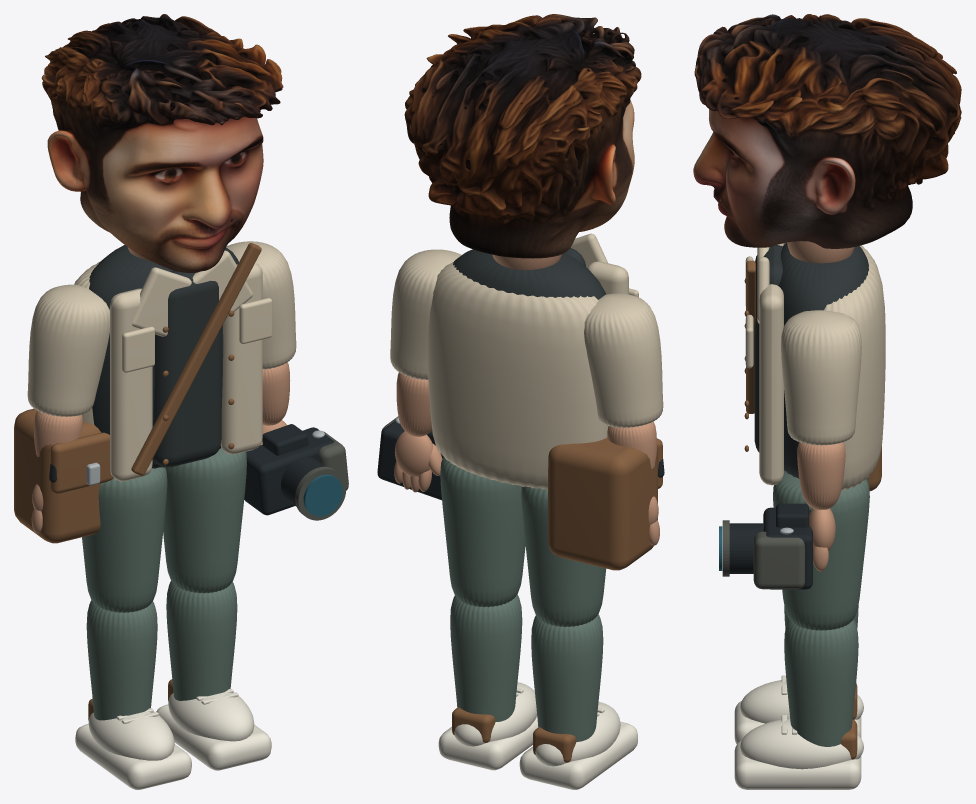
File: omer-character.glb
The picture shows the model from 3 angles, left to right: view 1: azimuth 30°, elevation 25°; view 2: azimuth 150°, elevation 25°; view 3: azimuth 270°, elevation 25°; orthographic projection.
Parts seen in each view (by area): view 1: Face, Trouser thigh.001, Trouser thigh, Visible charcoal shirt, Rolled sleeve, Trouser calf, Trouser calf.001, Camera bag, Jacket front, Jacket front.001, T shirt, Crossbody strap (+18 smaller); view 2: Face, Overshirt back, Camera bag, Trouser thigh.001, Rolled sleeve, Trouser calf.001, Trouser calf, Trouser thigh, Rolled sleeve.001, T shirt, Shoe sole, Shoe sole.001 (+11 smaller); view 3: Face, Rolled sleeve.001, Trouser calf.001, Trouser thigh.001, Overshirt back, Jacket front.001, T shirt, Sneaker.001, Shoe sole.001, Forearm.001, Camera grip, Sneaker (+9 smaller).
Part boxes in pixels (x1=…): Face: x1=41, y1=14, x2=283, y2=272; Trouser thigh.001: x1=163, y1=448, x2=246, y2=593; Trouser thigh: x1=82, y1=467, x2=167, y2=612; Visible charcoal shirt: x1=153, y1=270, x2=221, y2=467; Rolled sleeve: x1=27, y1=284, x2=109, y2=416; Trouser calf: x1=86, y1=600, x2=157, y2=720; Trouser calf.001: x1=166, y1=581, x2=237, y2=700; Camera bag: x1=14, y1=408, x2=100, y2=543; Jacket front: x1=110, y1=288, x2=152, y2=481; Jacket front.001: x1=220, y1=263, x2=262, y2=454; T shirt: x1=89, y1=245, x2=238, y2=468; Crossbody strap: x1=131, y1=243, x2=261, y2=475; Face: x1=404, y1=14, x2=641, y2=258; Overshirt back: x1=427, y1=262, x2=608, y2=489; Camera bag: x1=548, y1=437, x2=657, y2=570; Trouser thigh.001: x1=440, y1=457, x2=525, y2=607; Rolled sleeve: x1=584, y1=293, x2=663, y2=427; Trouser calf.001: x1=450, y1=594, x2=522, y2=721; Trouser calf: x1=531, y1=614, x2=603, y2=741; Trouser thigh: x1=521, y1=486, x2=606, y2=626; Rolled sleeve.001: x1=390, y1=249, x2=461, y2=379; T shirt: x1=453, y1=249, x2=605, y2=299; Shoe sole: x1=519, y1=721, x2=637, y2=789; Shoe sole.001: x1=438, y1=716, x2=538, y2=770; Face: x1=693, y1=14, x2=961, y2=248; Rolled sleeve.001: x1=781, y1=310, x2=861, y2=445; Trouser calf.001: x1=784, y1=619, x2=858, y2=746; Trouser thigh.001: x1=773, y1=470, x2=869, y2=630; Overshirt back: x1=824, y1=245, x2=885, y2=490; Jacket front.001: x1=759, y1=284, x2=783, y2=485; T shirt: x1=778, y1=242, x2=868, y2=478; Sneaker.001: x1=740, y1=718, x2=863, y2=769; Shoe sole.001: x1=734, y1=740, x2=861, y2=789; Forearm.001: x1=797, y1=442, x2=845, y2=509; Camera grip: x1=753, y1=531, x2=804, y2=589; Sneaker: x1=740, y1=680, x2=863, y2=723.
Size of the model in its own units: 1.22 by 2.89 by 0.9724.
11 materials, 1 textured.
